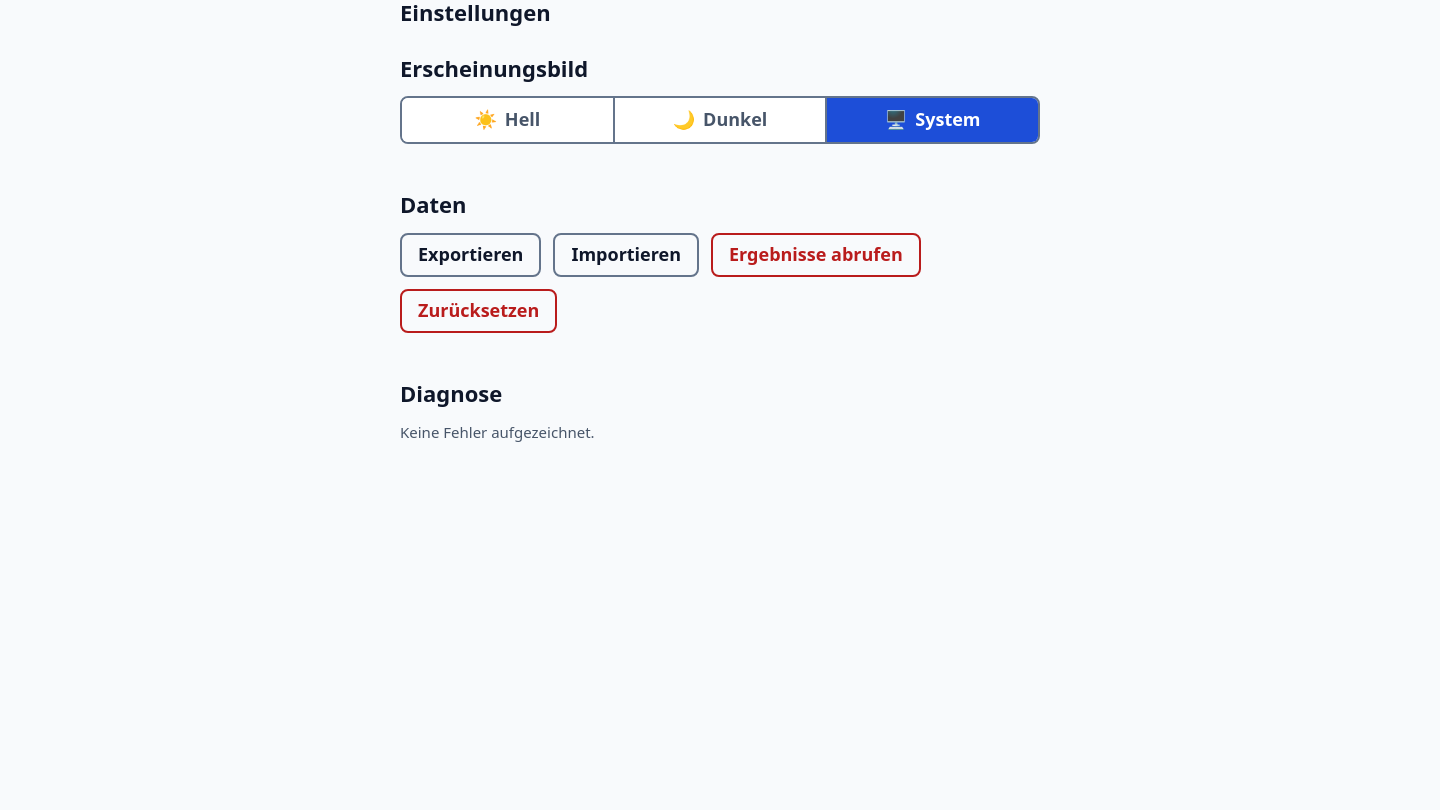
Scenario: SettingsView – reset › shows ConfirmDialog with reset title when Zurücksetzen is clicked
Click the button "Zurücksetzen" at coordinates (479, 311), box [400,289,557,333]
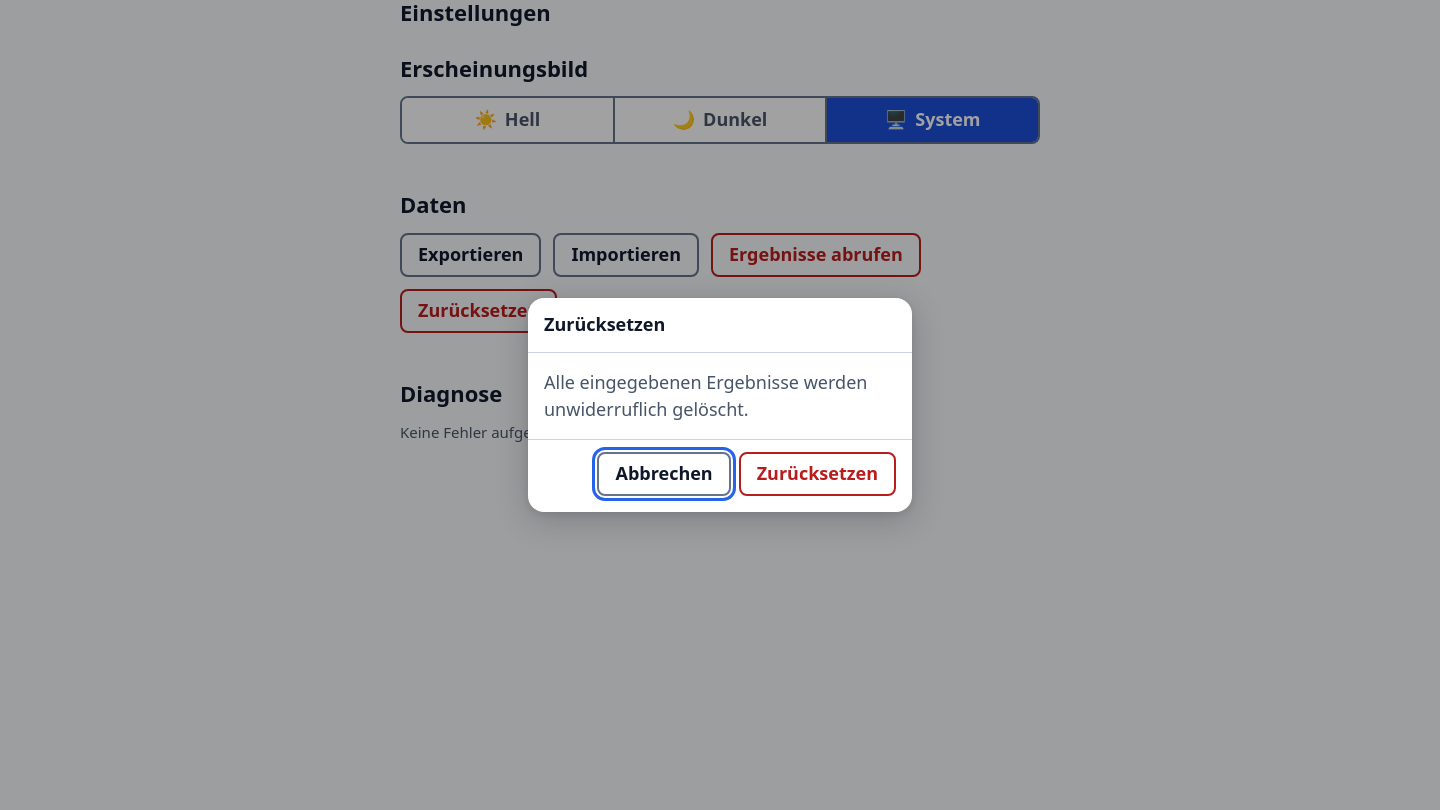
Result: the dialog is shown at [528,298,912,512]
Result: the heading with class "base-dialog__title" reads "Zurücksetzen" at [544,312,665,336]
